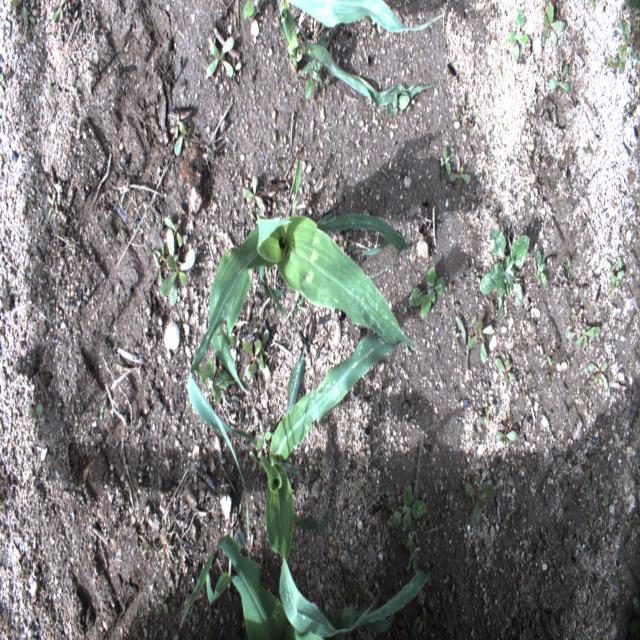crop: (186, 155, 416, 535), (260, 334, 400, 561), (179, 533, 435, 639), (275, 0, 443, 105)
weed: (478, 225, 528, 319), (379, 482, 428, 539), (195, 345, 235, 409), (408, 264, 446, 321), (160, 251, 191, 308), (463, 473, 495, 527), (242, 327, 267, 391), (507, 2, 530, 64), (467, 318, 494, 364), (206, 36, 233, 78), (171, 112, 194, 159), (541, 2, 565, 47), (342, 563, 367, 604), (617, 19, 637, 70), (495, 409, 518, 449), (548, 59, 571, 96), (573, 322, 602, 350), (452, 291, 467, 342), (164, 214, 185, 250), (609, 255, 625, 302), (243, 175, 263, 212), (586, 359, 608, 391), (622, 1, 640, 39), (152, 240, 167, 284), (405, 534, 420, 577), (20, 4, 36, 43), (495, 357, 517, 385), (566, 306, 584, 340), (386, 94, 411, 118), (535, 248, 547, 292), (440, 147, 454, 183), (155, 588, 170, 616), (452, 165, 472, 185), (45, 191, 57, 223), (51, 0, 68, 22), (26, 402, 45, 421), (578, 469, 591, 496), (477, 405, 494, 425), (582, 135, 599, 155), (601, 54, 617, 74), (242, 0, 256, 21), (249, 451, 263, 470), (455, 100, 467, 122), (256, 421, 266, 445), (292, 300, 305, 318), (402, 340, 416, 356), (8, 0, 23, 14), (188, 619, 200, 636), (597, 488, 608, 506), (583, 0, 599, 12), (564, 258, 572, 281), (367, 22, 378, 38), (470, 463, 480, 480), (396, 207, 408, 221), (489, 299, 498, 315), (545, 353, 556, 366), (23, 194, 35, 205), (99, 404, 105, 424), (379, 166, 389, 178), (380, 487, 391, 497), (248, 205, 254, 222), (466, 118, 474, 130), (148, 487, 156, 496), (546, 374, 552, 386), (0, 71, 5, 84), (498, 69, 503, 80), (61, 161, 68, 168)
